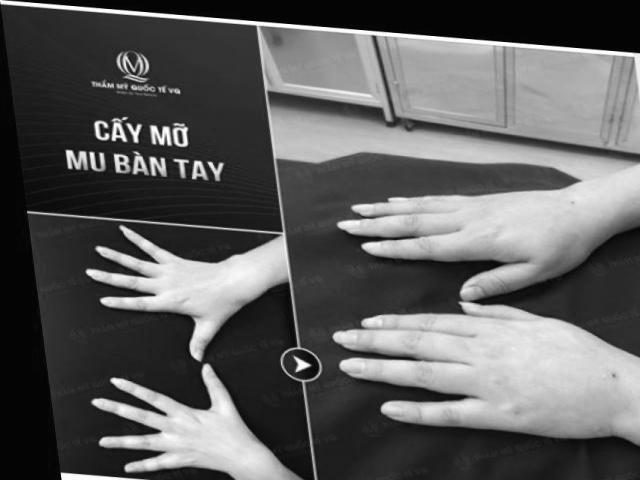not-gloved: (336, 304, 614, 440), (342, 186, 594, 301), (88, 225, 236, 359), (87, 364, 247, 474)
